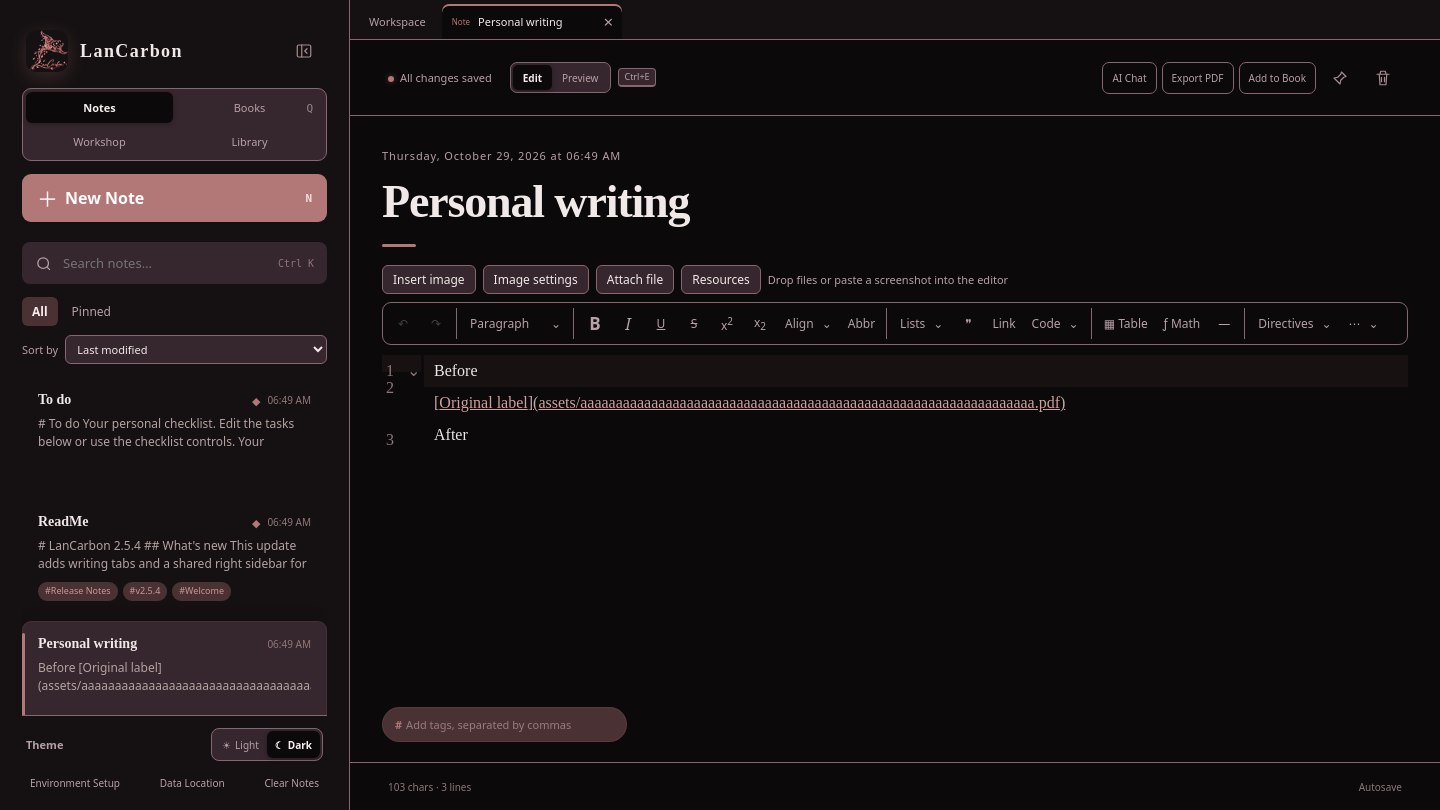
it: foundation workspaces › renames resource metadata and navigates its writing reference without rewriting the Note
The width and height of the screenshot is (1440, 810).
Check: the field showing "Personal writing" is shown, box [382, 175, 1408, 228]
Click the button "Library": [250, 142] box [176, 126, 323, 157]
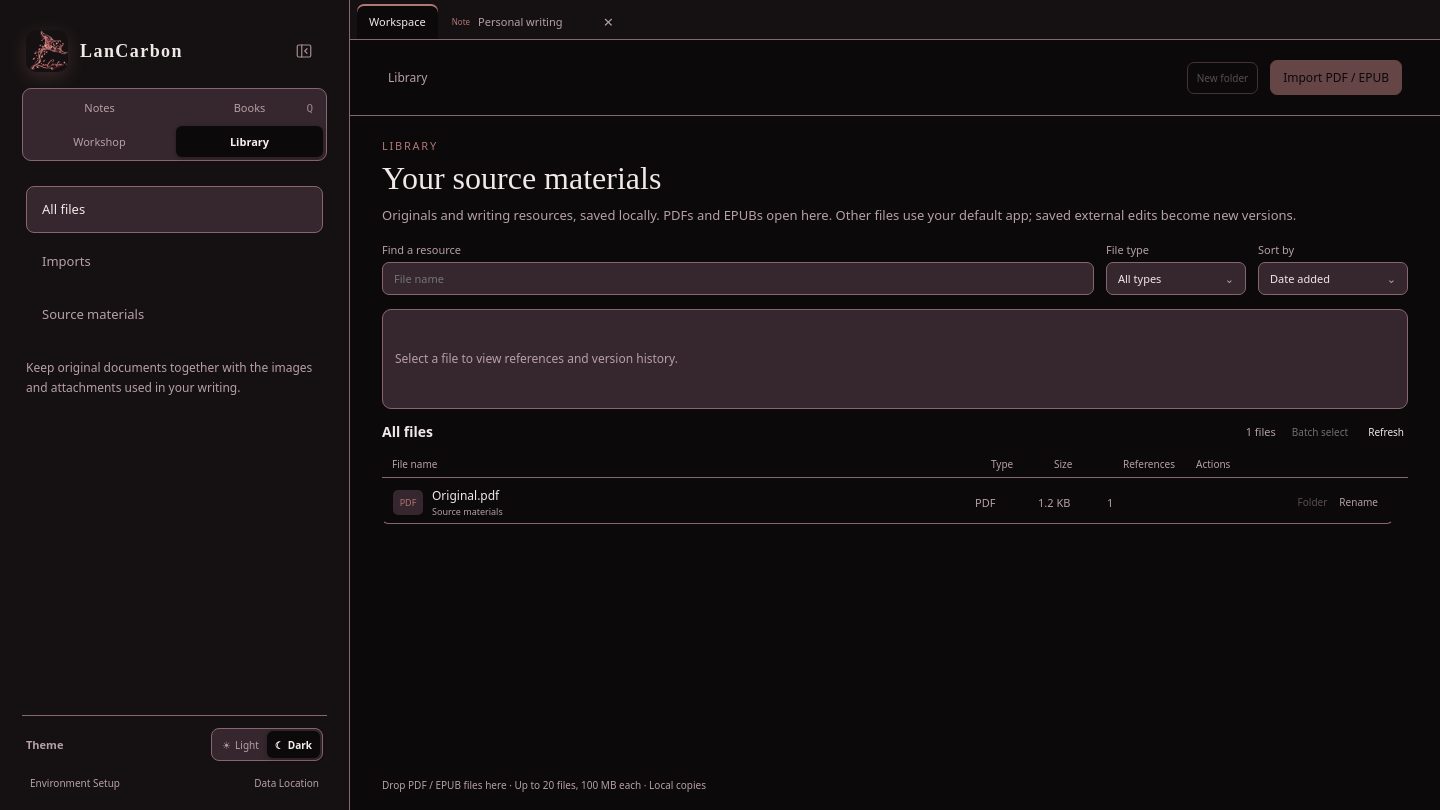
Click the button "PDF Original.pdf Source materials": [466, 495] box [393, 487, 966, 518]
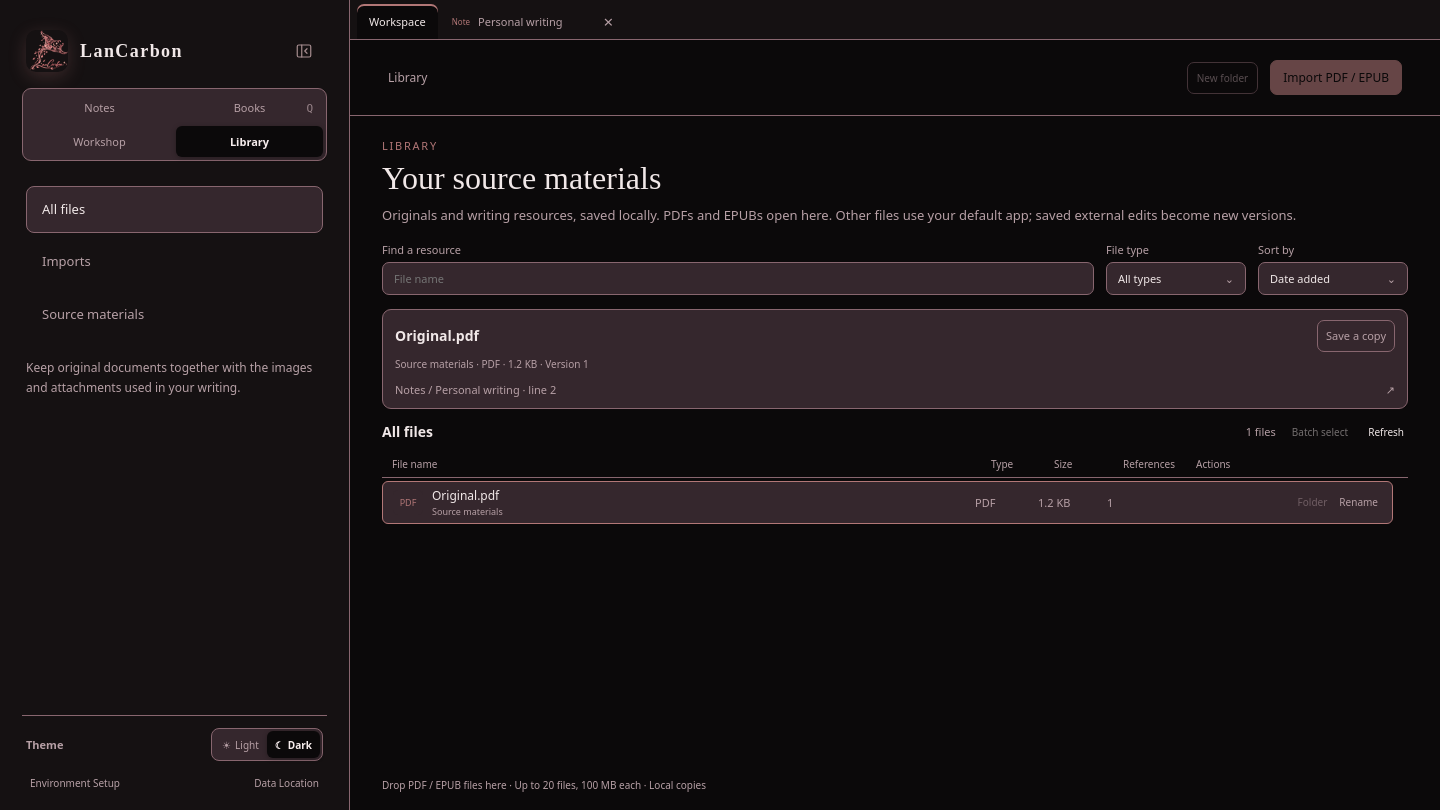
Click the button with aria-label "Rename Original.pdf": [1359, 502] box [1335, 491, 1382, 513]
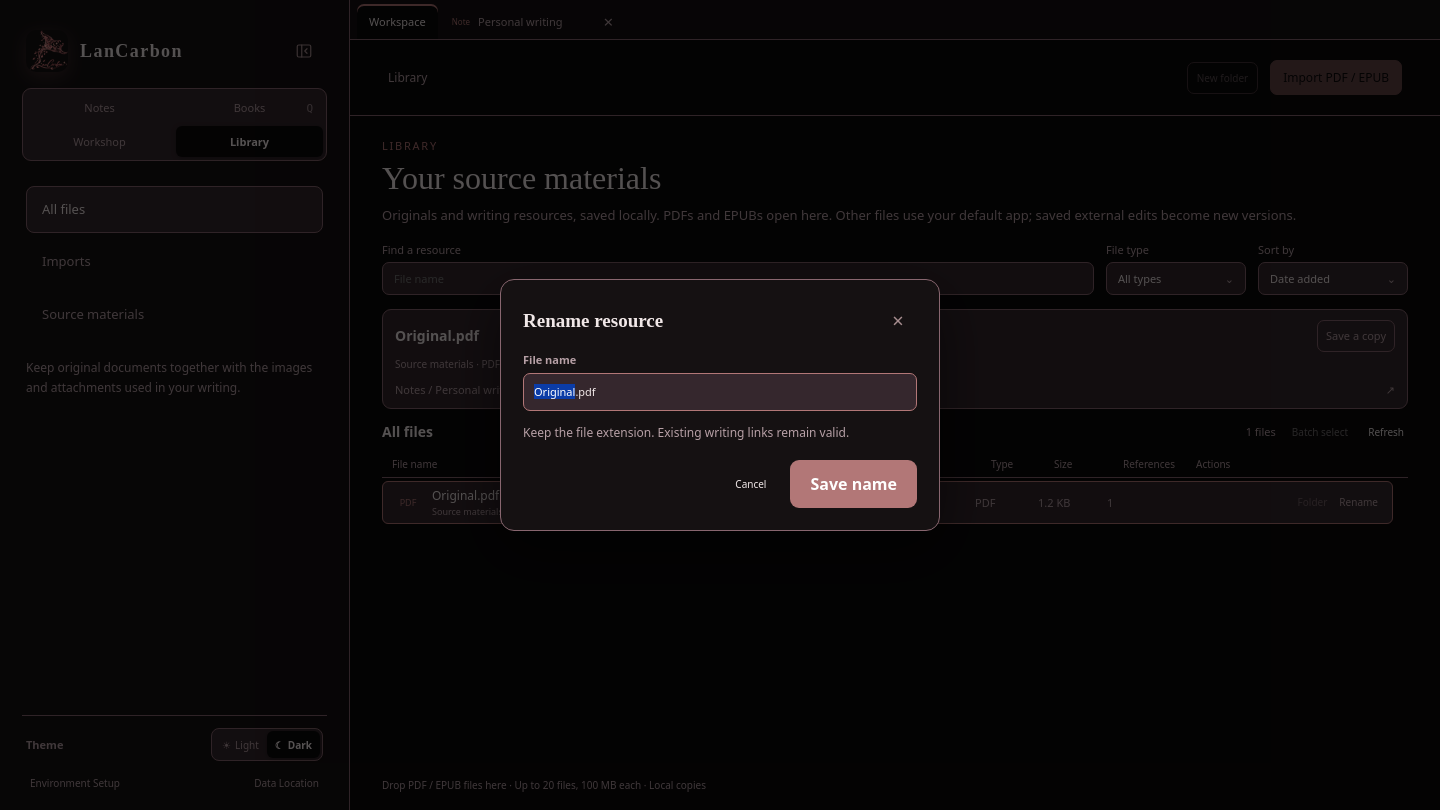
Replace the text in the field named "Resource name" with "Renamed.pdf": [720, 392] box [523, 373, 917, 411]
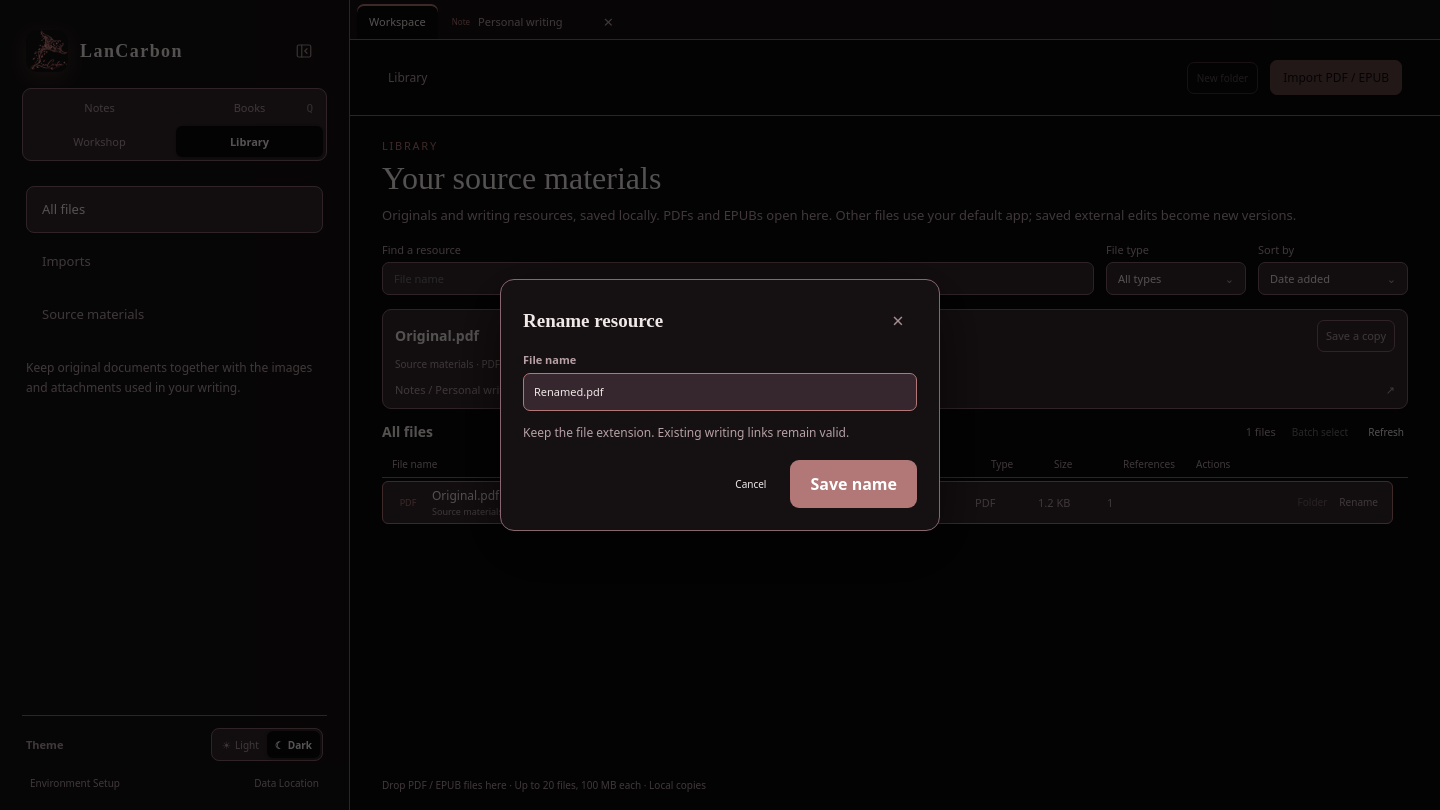
Click the button "Save name": [854, 484] box [790, 460, 917, 508]
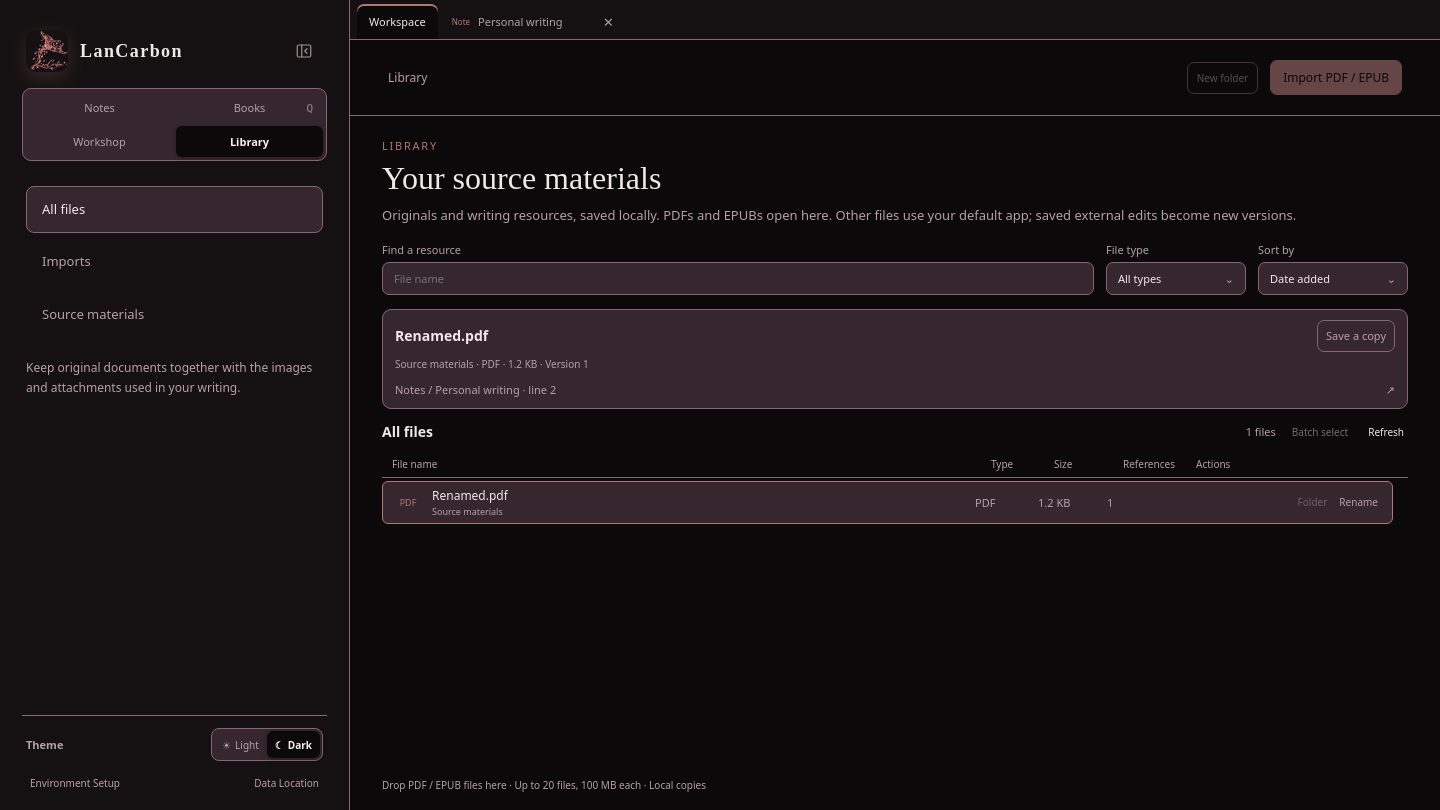
Check: the heading "Renamed.pdf" is shown, box [395, 326, 488, 345]
Click the button "Notes / Personal writing · line 2 ↗": [410, 389] box [395, 377, 1395, 403]
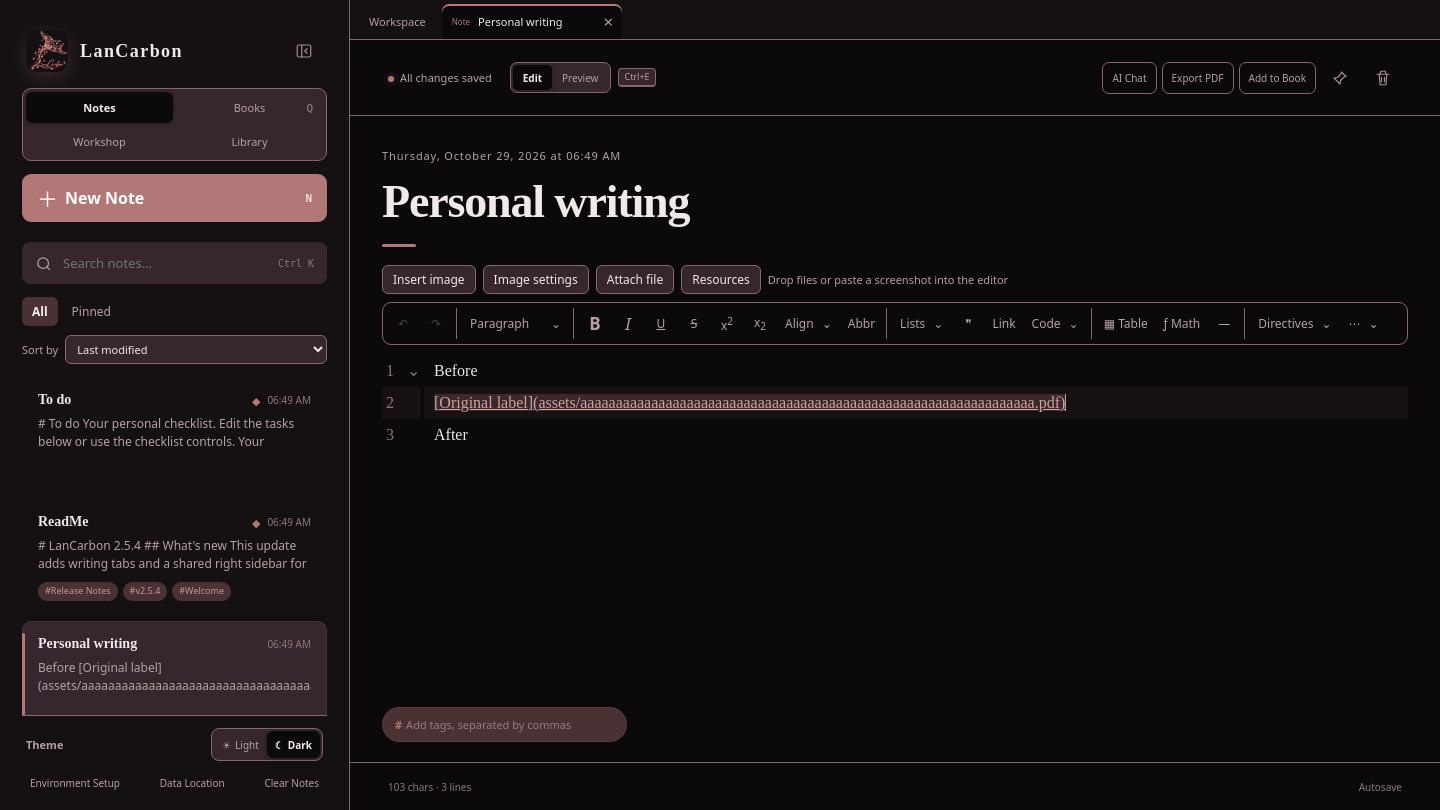
Check: the field showing "Personal writing" is shown, box [382, 175, 1408, 228]
Check: the field named "Note content" shows "Original label", box [424, 362, 1408, 443]
